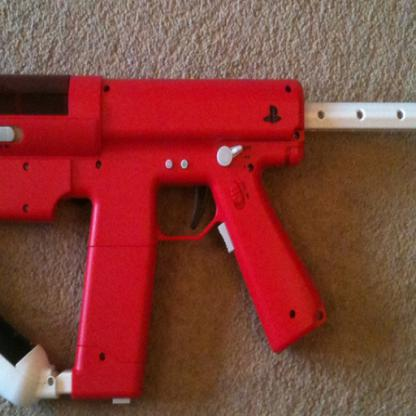gun: (0, 70, 415, 410)
